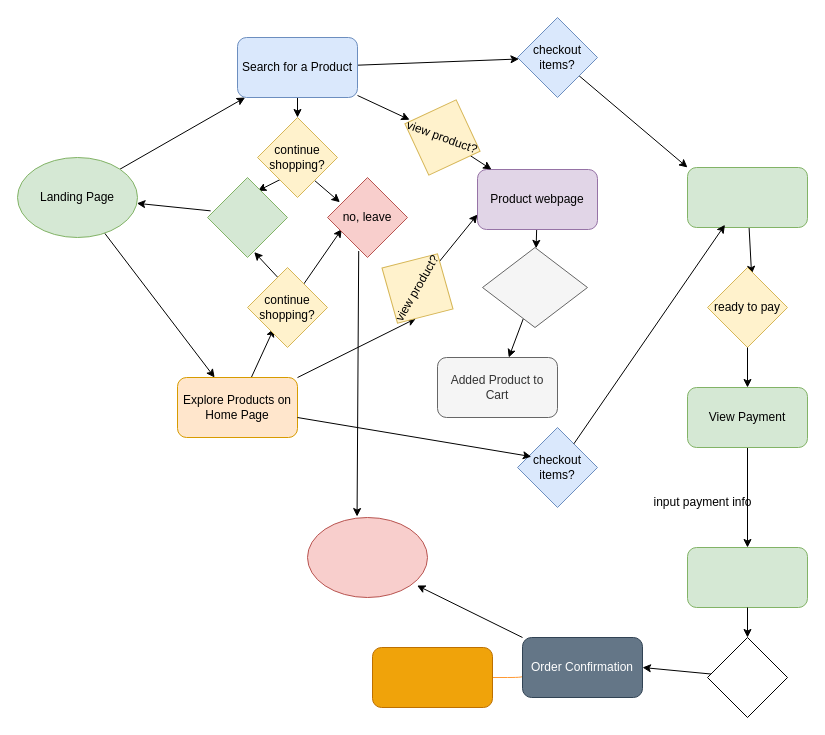
This 825x735 diagram has some shape labels left out. The shapes that lost their labels are listed below. From the top down, each one's centre as x and y in pixels, then its label:
At [247,217]: "yes, continue".
At [747,197]: "View Cart".
At [535,287]: "add product to cart?".
At [367,557]: "Exit Website".
At [747,577]: "Payment Info".
At [432,677]: "Recieve Email Confirmation".
At [747,677]: "Comfirm Pay".
